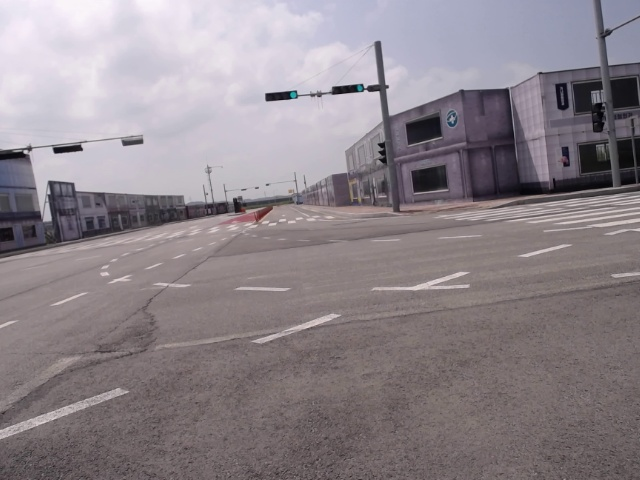straight_green_4: (264, 90, 299, 102), (332, 83, 364, 95)
